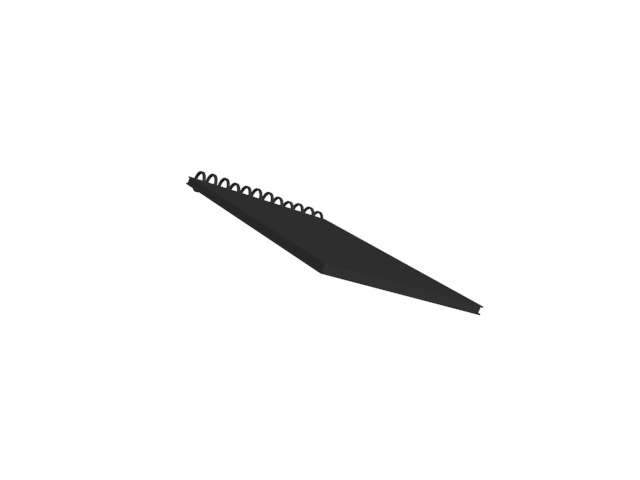paper_notebook: (185, 169, 488, 320)
